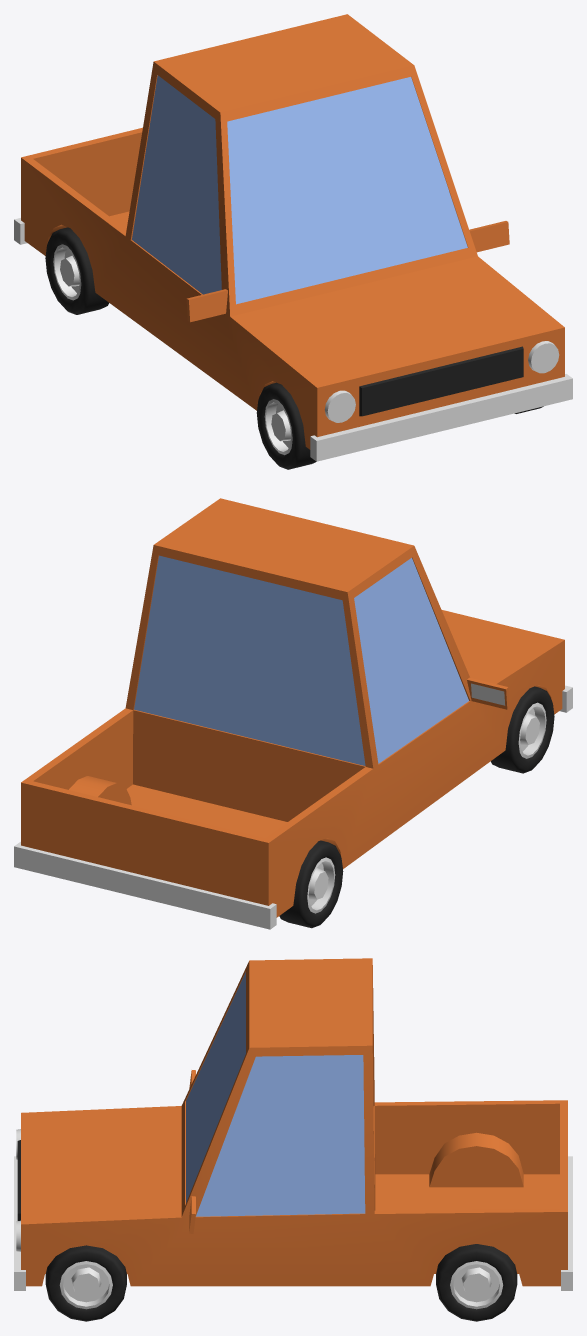
The model's file is isometric_car.fbx.
3 renders of one model, top to bottom at view 1: azimuth 30°, elevation 25°; view 2: azimuth 150°, elevation 25°; view 3: azimuth 270°, elevation 25°, orthographic. The views are drawn at different scales.
Parts seen in each view (by area): view 1: car, rear_wheels, front_wheels; view 2: car, rear_wheels, front_wheels; view 3: car, rear_wheels, front_wheels.
Boxes of the visible parts, x1,y1,x2,y2 form: car: [14, 14, 572, 461]; rear_wheels: [45, 227, 108, 314]; front_wheels: [256, 382, 543, 469]; car: [14, 498, 572, 929]; rear_wheels: [279, 840, 343, 928]; front_wheels: [491, 686, 554, 773]; car: [14, 958, 572, 1290]; rear_wheels: [436, 1244, 517, 1321]; front_wheels: [45, 1245, 126, 1321].
Bounding box in the file's own units: 180 × 153 × 295.
